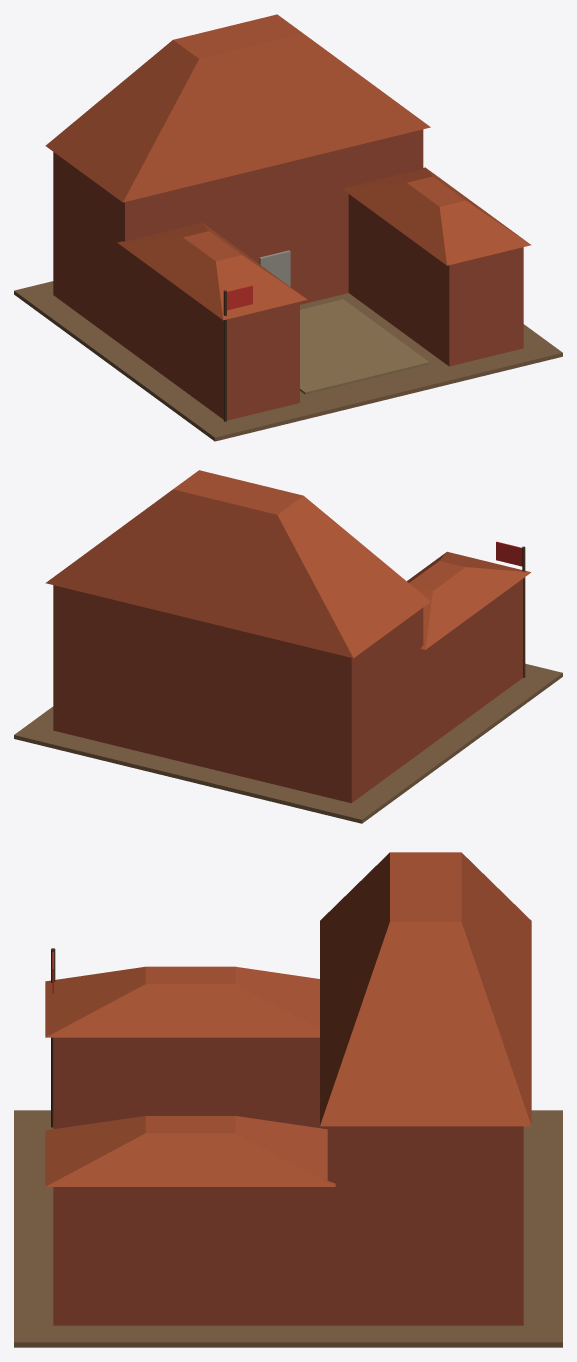
Rendered from bld_special_barracks_a04_lod2.glb.
3 views of the same model, one above another, from view 1: azimuth 30°, elevation 25°; view 2: azimuth 150°, elevation 25°; view 3: azimuth 270°, elevation 25° (orthographic). The views are drawn at different scales.
Parts seen in each view (by area): view 1: body; view 2: body; view 3: body.
Boxes of the visible parts, left/top/right/bottom form: body: left=14, top=14, right=562, bottom=441; body: left=14, top=470, right=562, bottom=823; body: left=14, top=852, right=562, bottom=1347.
Bounding box in the file's own units: 14 × 9.69 × 14.
